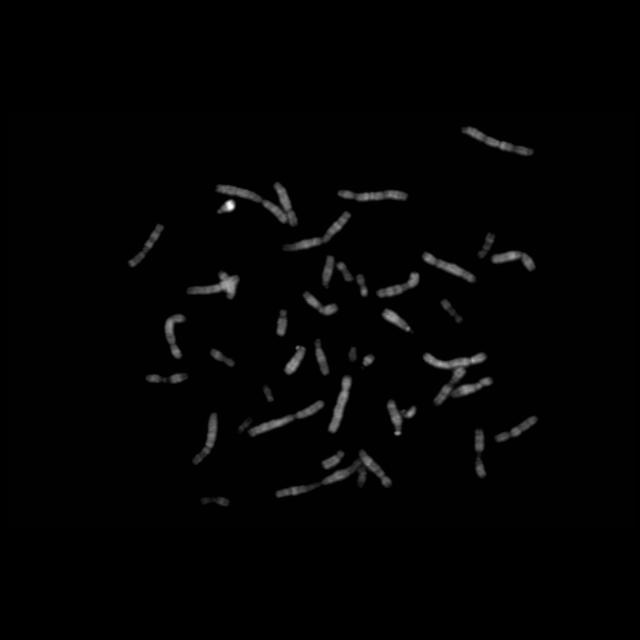chromosome: (276, 456, 360, 499), (249, 396, 325, 439), (285, 211, 353, 253), (217, 185, 286, 222), (462, 125, 532, 156), (191, 409, 219, 466), (420, 252, 476, 280), (356, 450, 392, 490), (128, 224, 162, 266), (376, 269, 420, 299), (338, 186, 408, 204), (331, 376, 352, 434), (186, 274, 240, 296), (496, 416, 538, 442), (434, 368, 464, 404), (491, 251, 535, 275), (164, 312, 186, 360), (424, 352, 486, 368), (276, 182, 298, 226), (470, 429, 488, 479), (302, 292, 338, 316), (451, 378, 492, 398), (282, 344, 304, 376), (144, 371, 188, 387), (312, 336, 330, 374), (383, 308, 411, 332), (387, 398, 403, 436), (478, 231, 498, 259), (200, 492, 228, 512), (441, 299, 463, 323), (209, 347, 235, 367), (322, 448, 346, 468), (220, 270, 236, 298), (274, 309, 290, 337), (320, 256, 334, 286), (215, 199, 235, 215), (356, 466, 369, 490), (338, 262, 352, 282), (356, 274, 368, 296), (400, 404, 418, 418), (362, 354, 376, 366), (348, 346, 358, 362)
